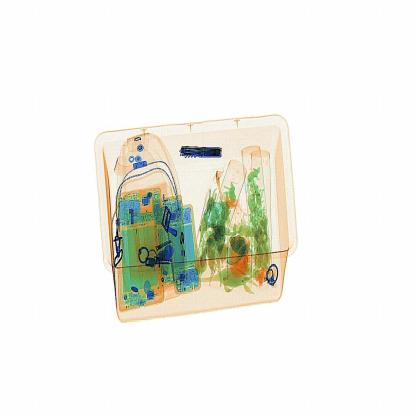scissors: (179, 144, 227, 163)
